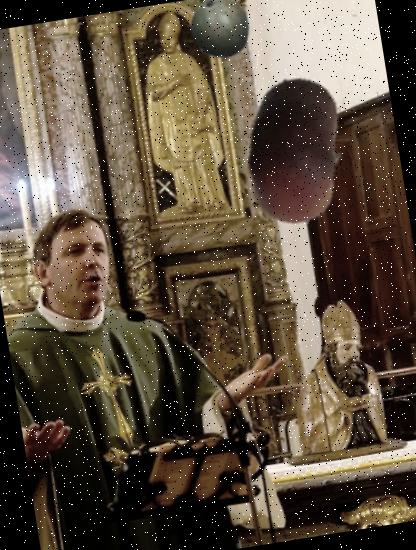Mango: (184, 0, 257, 64)
Nectarine: (211, 67, 379, 236)
